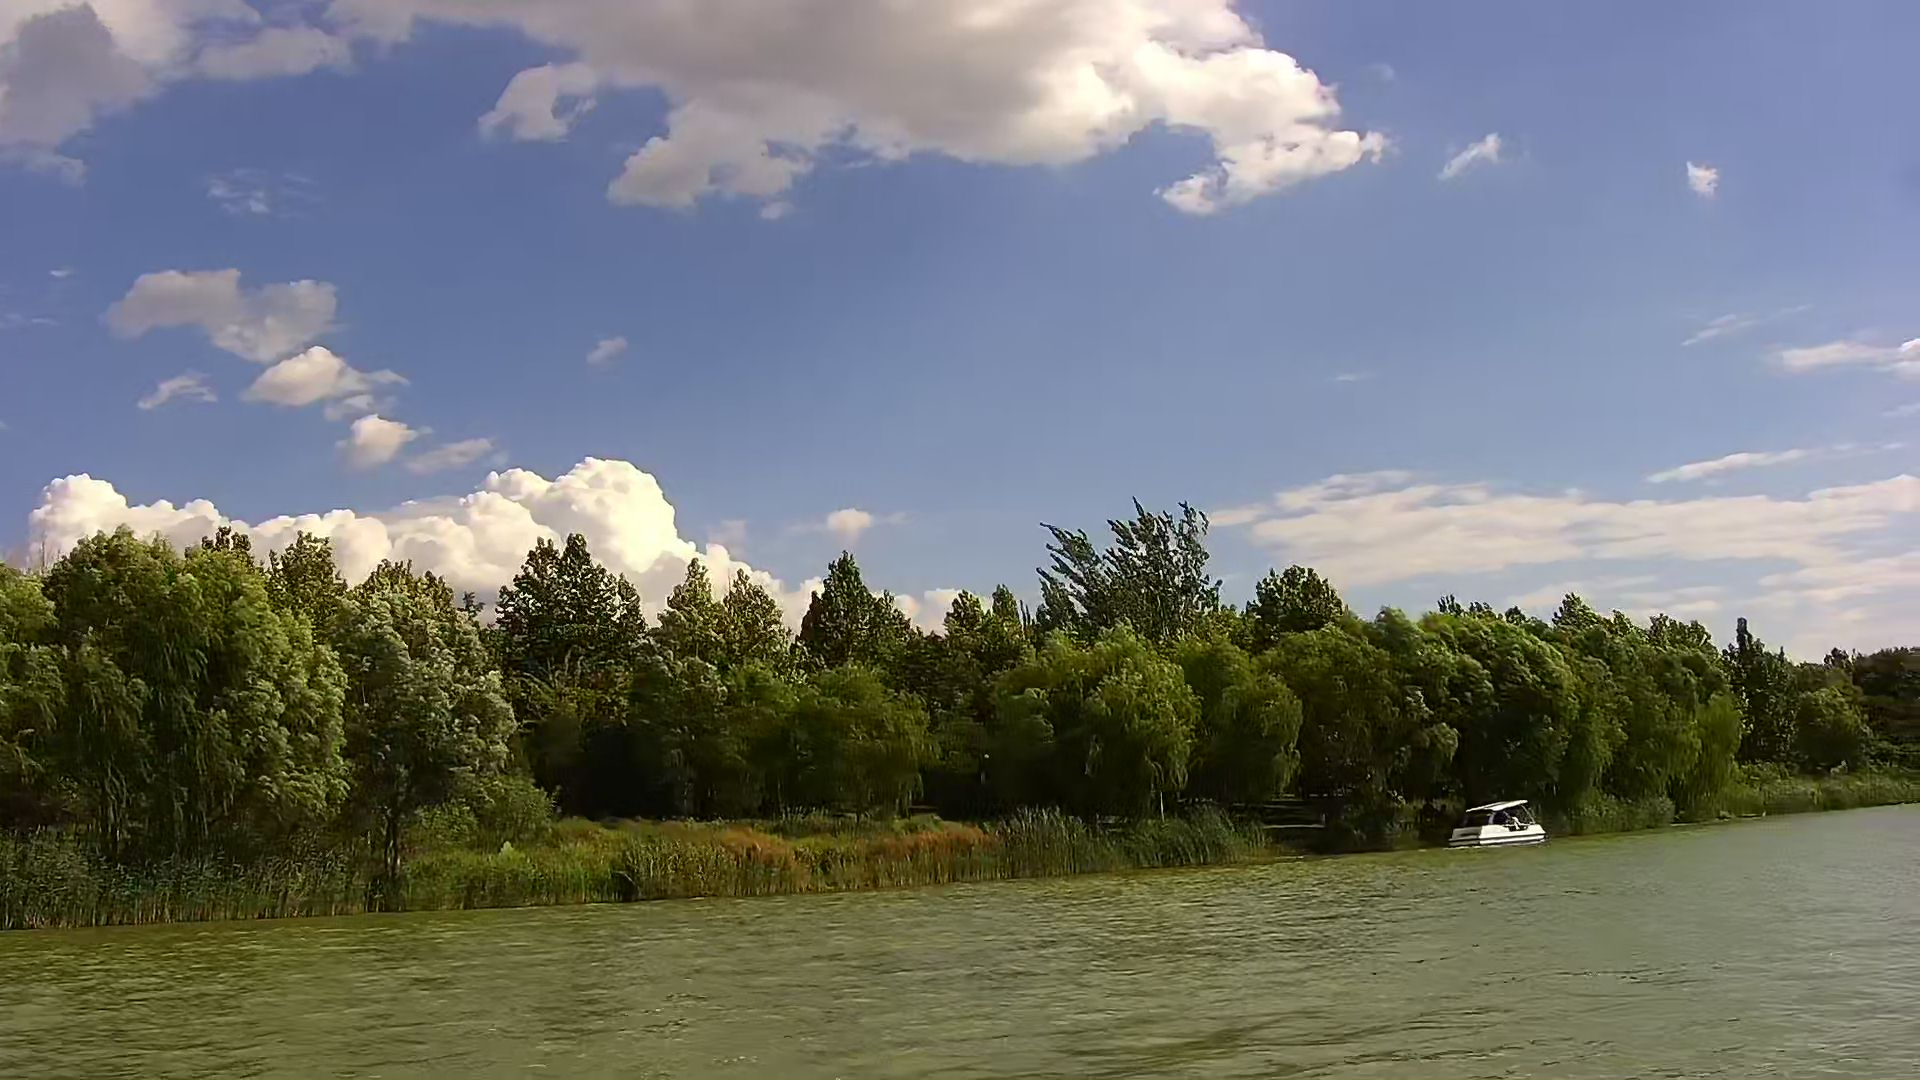boat: (1444, 798, 1547, 851)
